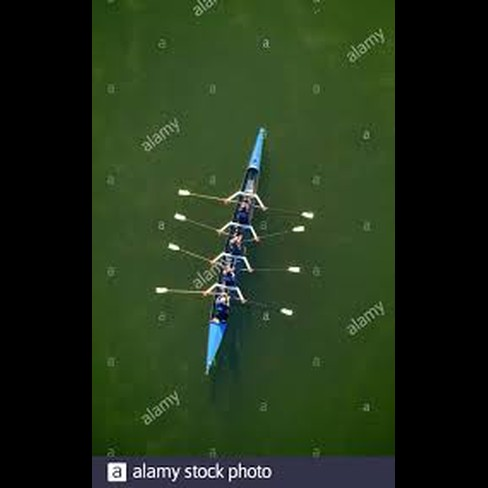boat: (146, 120, 317, 385)
